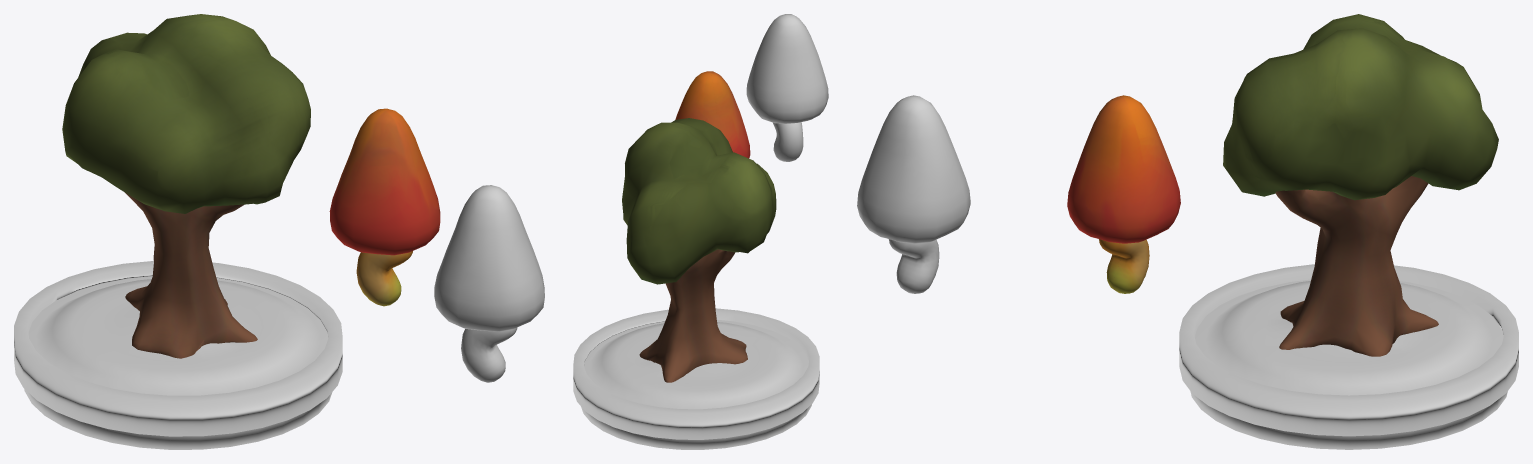
The model's file is CashewTree.fbx.
3 renders of one model, left to right at view 1: azimuth 30°, elevation 25°; view 2: azimuth 150°, elevation 25°; view 3: azimuth 270°, elevation 25°, orthographic. The views are drawn at different scales.
Parts seen in each view (by area): view 1: Sphere, Cylinder, Cylinder.001, Cashewtop.001, Cashewtop, Treebase, Cashewbottom, Cashewbottom.001; view 2: Sphere, Cylinder, Cylinder.001, Treebase, Cashewtop.001, Cashewtop, Cashewbottom.001; view 3: Sphere, Cylinder, Cylinder.001, Treebase, Cashewtop.001, Cashewtop, Cashewbottom.001, Cashewbottom.
Boxes of the visible parts, x1,y1,x2,y2 form: Sphere: (62, 14, 310, 213); Cylinder: (14, 261, 342, 449); Cylinder.001: (28, 276, 328, 395); Cashewtop.001: (434, 185, 544, 331); Cashewtop: (329, 108, 440, 255); Treebase: (125, 192, 257, 358); Cashewbottom: (356, 251, 412, 306); Cashewbottom.001: (461, 327, 517, 382); Sphere: (622, 118, 776, 284); Cylinder: (573, 308, 819, 449); Cylinder.001: (584, 319, 808, 409); Treebase: (639, 249, 747, 382); Cashewtop.001: (746, 14, 828, 123); Cashewtop: (675, 71, 750, 158); Cashewbottom.001: (773, 122, 803, 161); Sphere: (1223, 14, 1498, 200); Cylinder: (1179, 264, 1518, 449); Cylinder.001: (1195, 279, 1503, 395); Treebase: (1275, 176, 1438, 356); Cashewtop.001: (857, 95, 970, 243); Cashewtop: (1067, 95, 1180, 243); Cashewbottom.001: (888, 239, 939, 293); Cashewbottom: (1099, 239, 1149, 293).
Bounding box in the file's own units: 4258 × 5114 × 8512.
